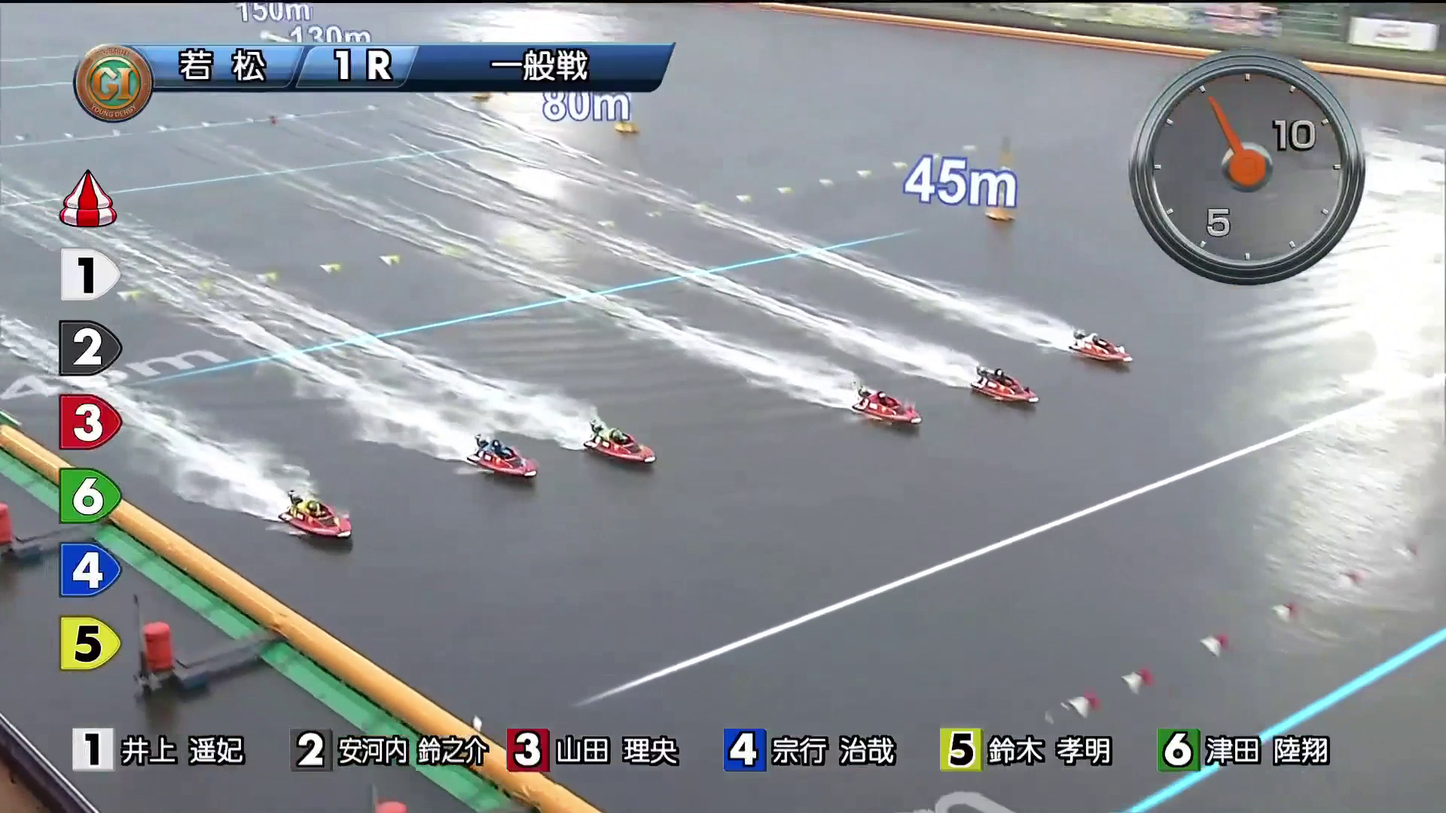１号艇: (1066, 323, 1126, 370)
２号艇: (972, 364, 1033, 402)
３号艇: (856, 384, 911, 425)
４号艇: (592, 423, 654, 466)
５号艇: (469, 443, 538, 481)
６号艇: (291, 503, 356, 550)
